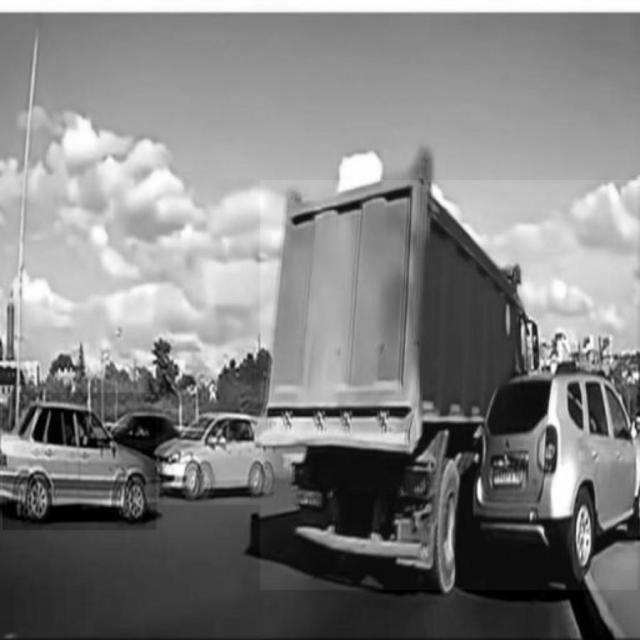accident: (260, 180, 637, 590)
vehicle: (3, 392, 157, 530), (162, 409, 260, 505)
